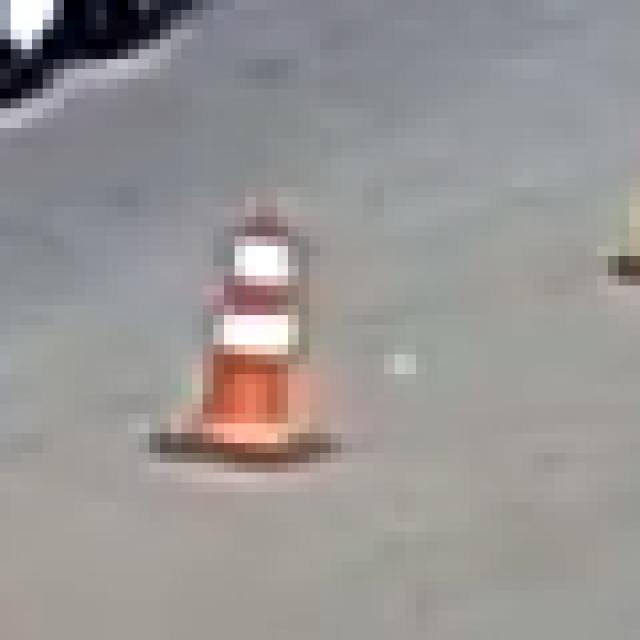small_cone: (154, 205, 337, 483)
